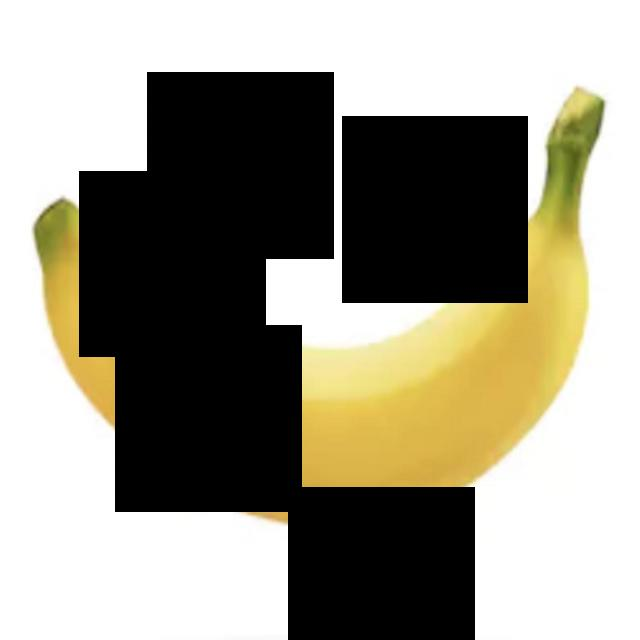banana: (7, 82, 640, 552)
